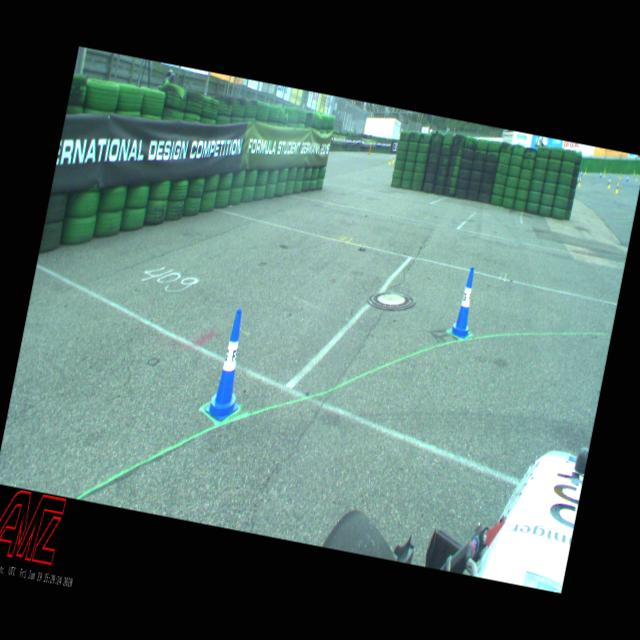blue_cone: (203, 304, 257, 424), (448, 266, 482, 342), (626, 174, 630, 183), (608, 177, 612, 186), (576, 175, 580, 184), (580, 170, 583, 177), (600, 170, 602, 178)
yellow_cone: (615, 183, 619, 194), (607, 179, 611, 189), (392, 154, 396, 164), (578, 178, 582, 187), (388, 156, 392, 165), (368, 148, 372, 156), (619, 172, 622, 180), (603, 170, 606, 178), (584, 168, 587, 175), (636, 174, 638, 181), (634, 170, 636, 176)
